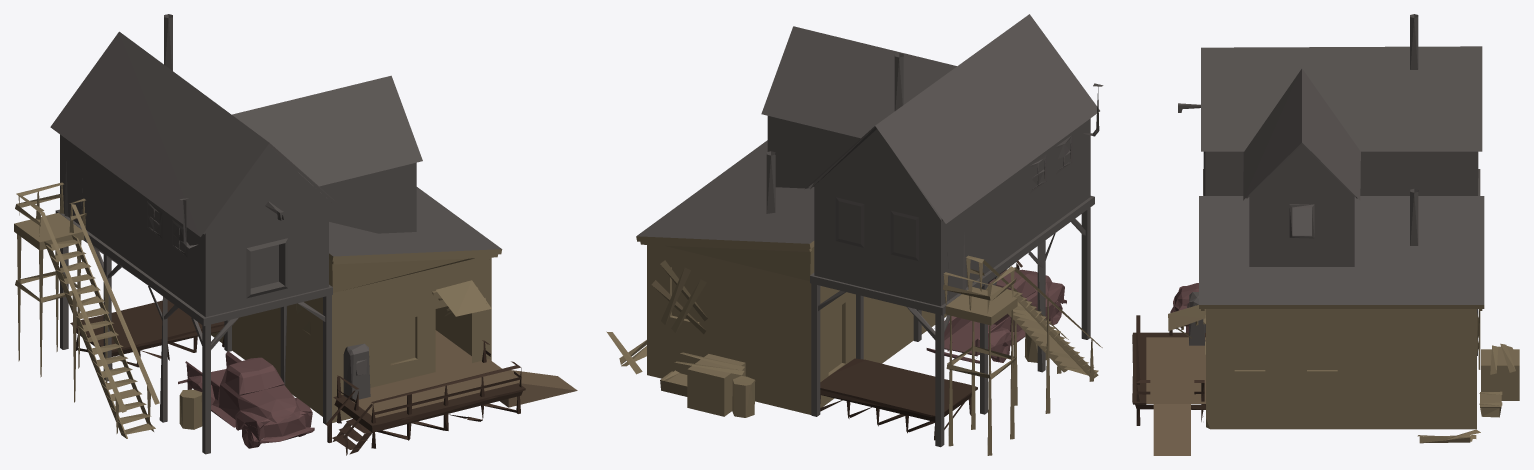
Rendered from barn.walls-v1.lod1.glb.
3 views of the same model, side by side, from view 1: azimuth 30°, elevation 25°; view 2: azimuth 150°, elevation 25°; view 3: azimuth 270°, elevation 25° (orthographic). The views are drawn at different scales.
Visible parts, largest first — view 1: polySurface3_barn_0; view 2: polySurface3_barn_0; view 3: polySurface3_barn_0.
Boxes of the visible parts, bbox=[...] form: polySurface3_barn_0: bbox=[14, 14, 577, 455]; polySurface3_barn_0: bbox=[606, 14, 1103, 455]; polySurface3_barn_0: bbox=[1132, 14, 1519, 455].
Bounding box in the file's own units: 13.58 × 11.19 × 12.41.
